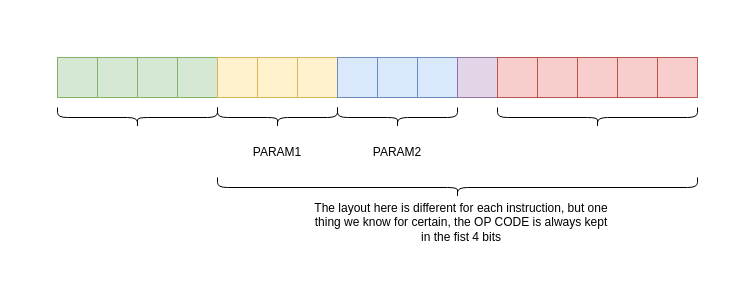
Some shapes in this 754 by 294 pixel diagram are drawn without their labels. Each missing label, with the box of its shape:
OP CODE: (56, 106, 218, 128)
PARAM3: (496, 106, 698, 128)
